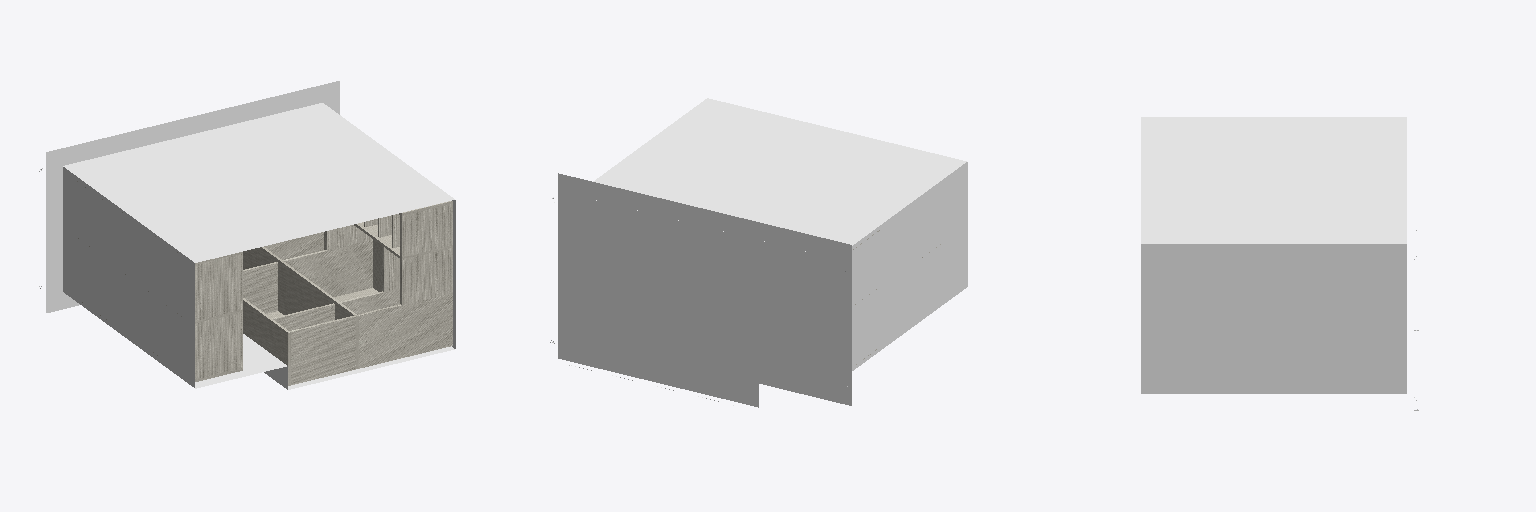
3 renders of one model, left to right at view 1: azimuth 30°, elevation 25°; view 2: azimuth 150°, elevation 25°; view 3: azimuth 270°, elevation 25°, orthographic.
Visible parts, largest first — view 1: Object_329, Object_328, Object_267, Object_334, Object_304, Object_285, Object_300, Object_4, Object_21, Object_344, Object_266, Object_145 (+10 smaller); view 2: Object_327, Object_329, Object_328, Object_334, Object_338, Object_336, Object_344, Object_340; view 3: Object_330, Object_329.
Boxes of the visible parts, box(x1,y1,x2,y2) form: Object_329: box(63, 103, 454, 262); Object_328: box(63, 167, 194, 387); Object_267: box(359, 293, 452, 368); Object_334: box(46, 81, 338, 165); Object_304: box(291, 317, 355, 384); Object_285: box(283, 240, 372, 296); Object_300: box(243, 247, 358, 368); Object_4: box(195, 312, 242, 379); Object_21: box(195, 254, 242, 320); Object_344: box(46, 153, 62, 312); Object_266: box(402, 248, 452, 304); Object_145: box(402, 204, 452, 256); Object_327: box(575, 195, 834, 385); Object_329: box(593, 98, 966, 251); Object_328: box(852, 162, 967, 370); Object_334: box(558, 173, 850, 258); Object_338: box(558, 345, 758, 407); Object_336: box(558, 174, 574, 357); Object_344: box(835, 245, 851, 405); Object_340: box(743, 362, 850, 405); Object_330: box(1141, 244, 1406, 393); Object_329: box(1141, 117, 1406, 243).
Size of the model in its own units: 3498 by 2088 by 2817.
11 materials, 2 textured.